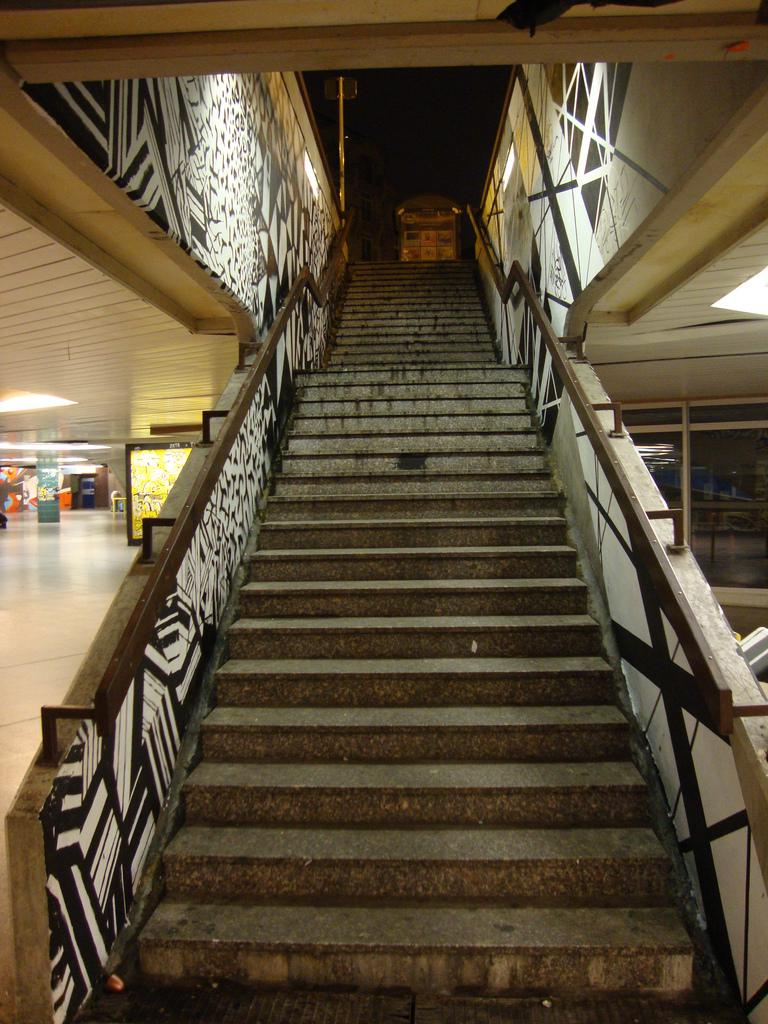stairs: (60, 216, 746, 963)
